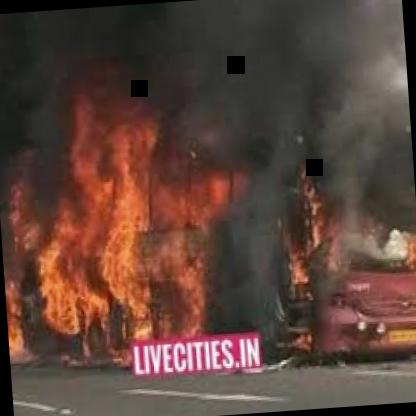fire: (0, 18, 253, 340)
